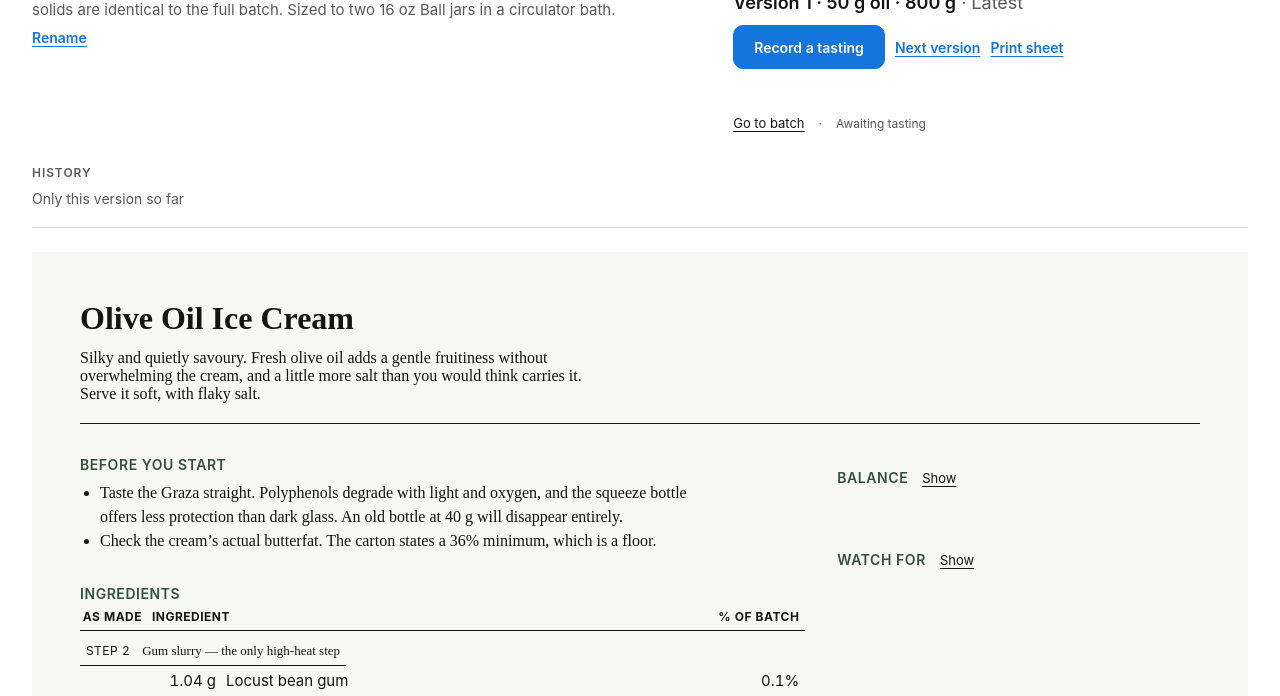
From freezer through the real pen and the real save (sketch 010 D6 to D10; 04-05) › a tap hides the scales and Any problems?; Clear brings them back blank; a scale mark turns the options off with the reason
The image size is (1280, 696).
Click the button with class "notebook-action" at (809, 47), box left=733, top=25, right=885, bottom=69
(page scrolled)
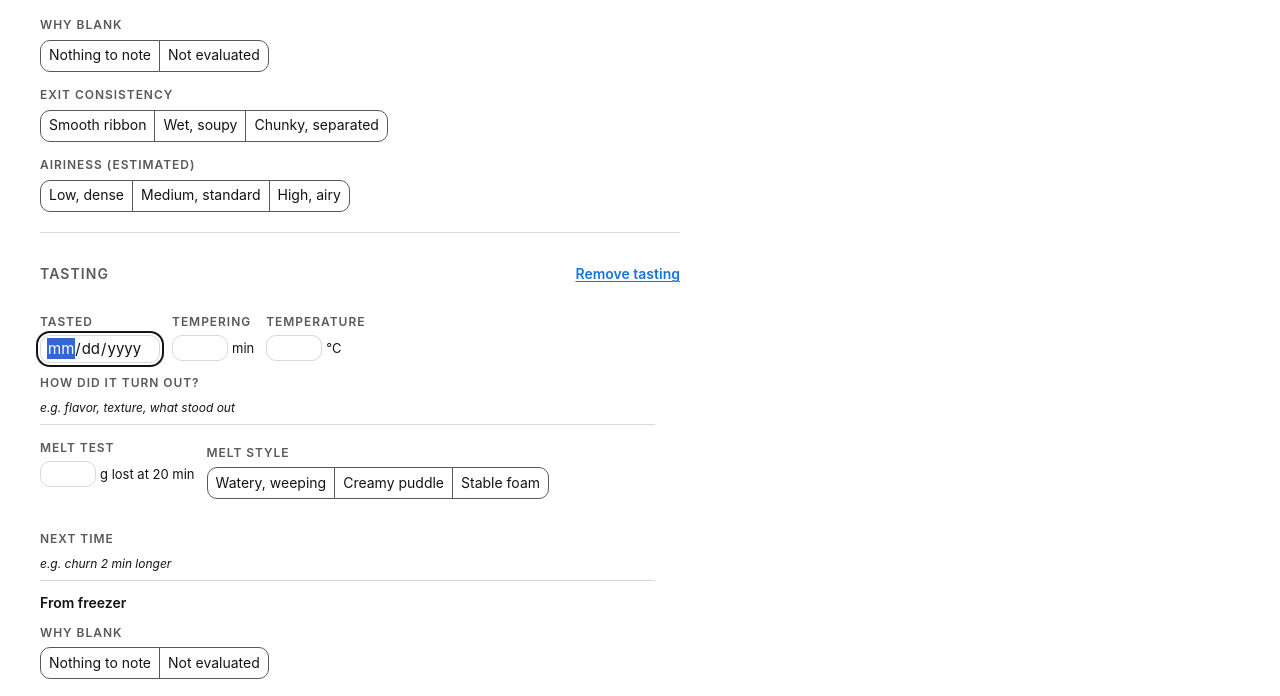
Click the radio button labelled "Nothing to note" below "From freezer" at (100, 663), box left=40, top=647, right=160, bottom=679
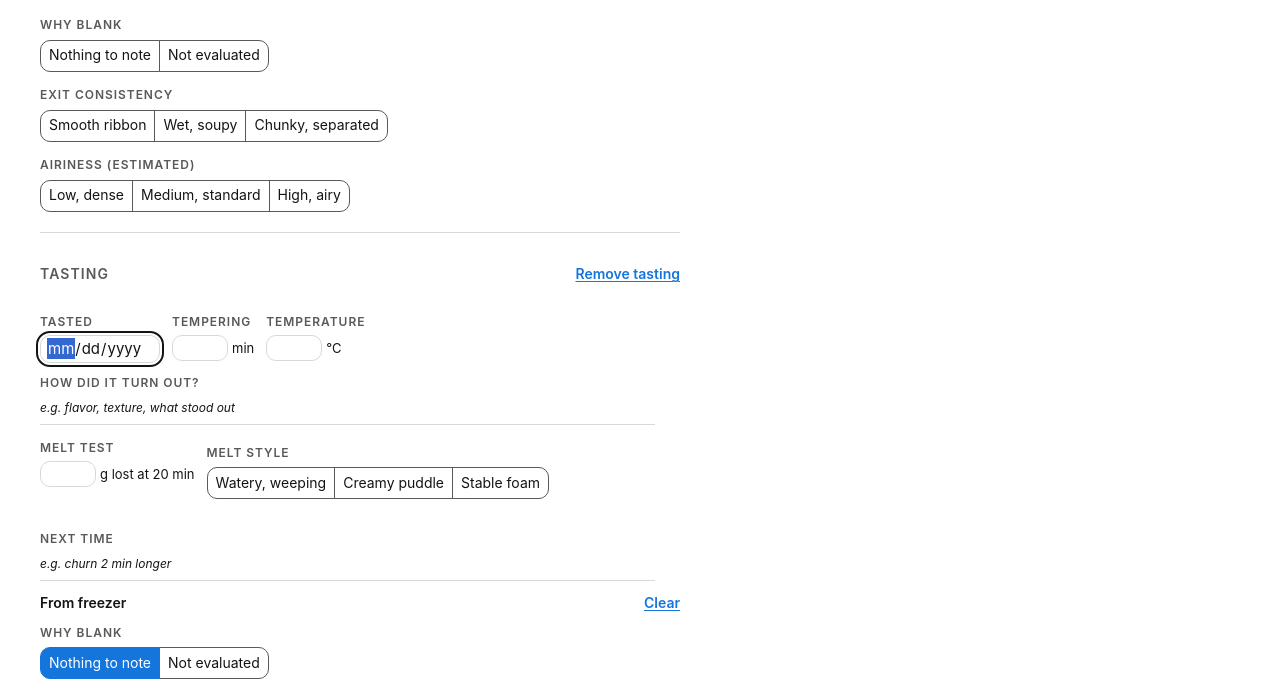
Click the button "Clear" at (662, 603), box left=644, top=594, right=680, bottom=612
(page scrolled)
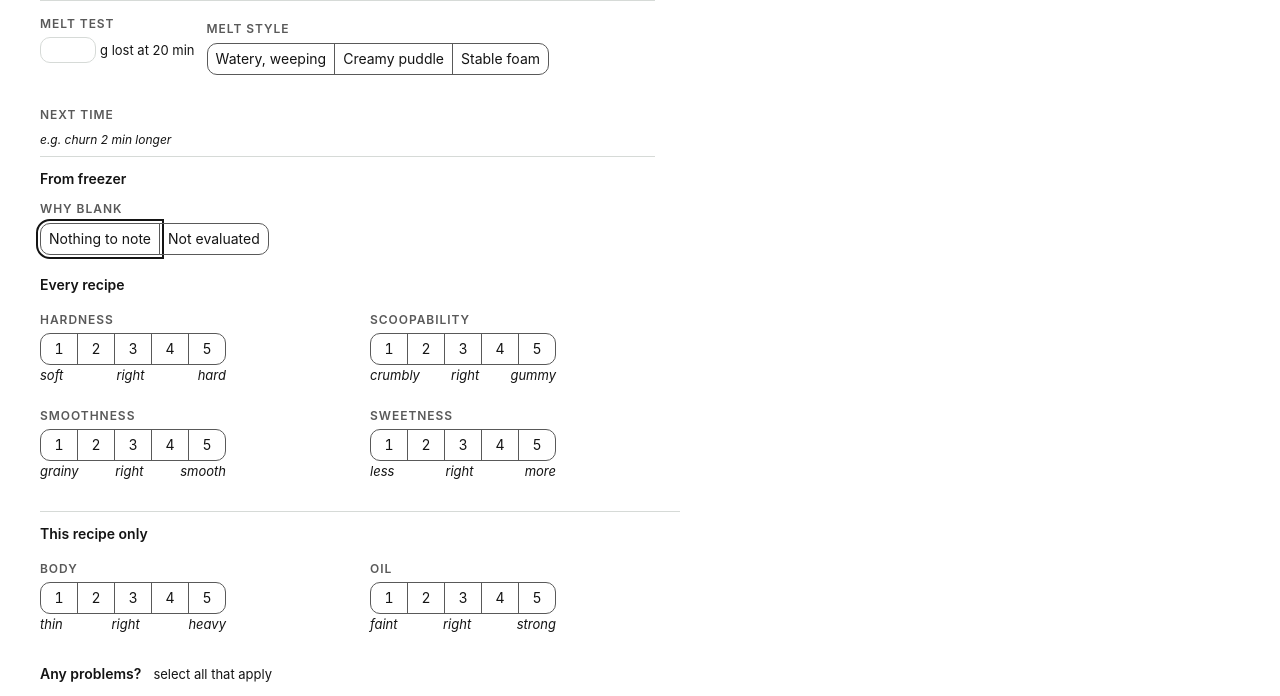
Now the radio button labelled "Nothing to note" is not checked, box left=40, top=223, right=160, bottom=255
Now the element with class "axis-mark" that starts with "Hardness" is shown, box left=40, top=312, right=226, bottom=383
Click the radio button labelled "4" below "Hardness" at (170, 349), box left=151, top=333, right=189, bottom=365
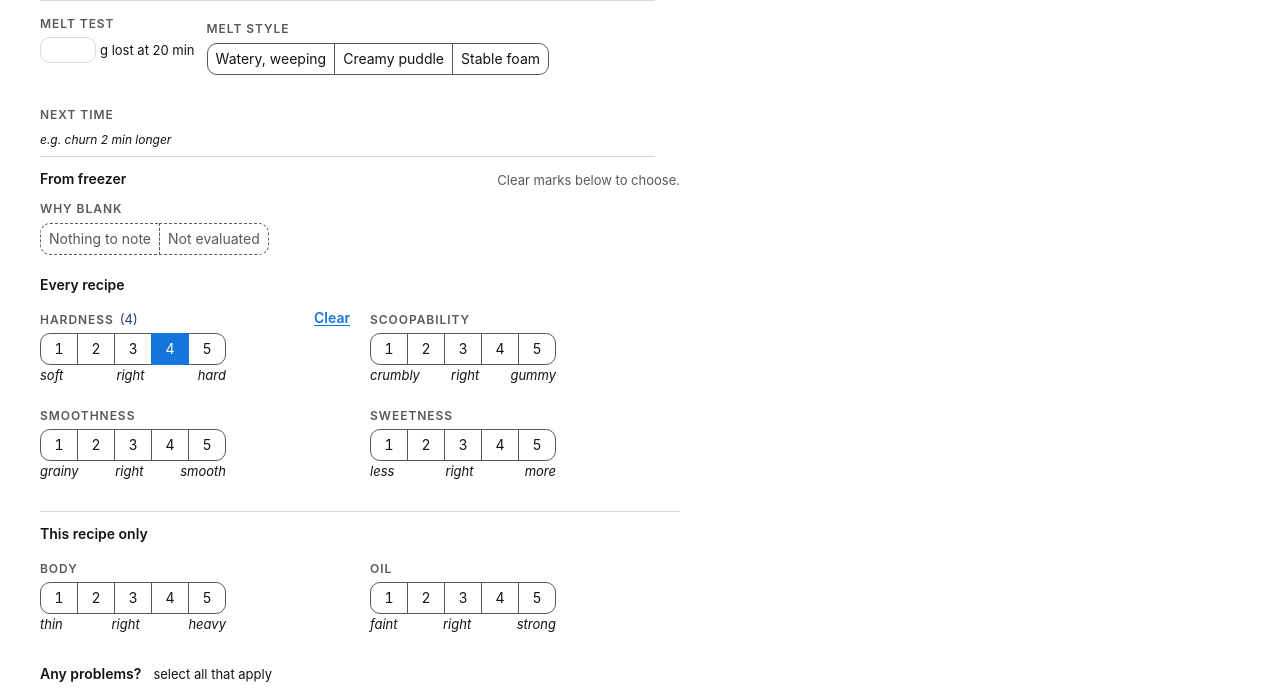
Now the radio button labelled "Nothing to note" is not checked, box left=40, top=223, right=160, bottom=255
Now the radio button labelled "Nothing to note" is disabled, box left=40, top=223, right=160, bottom=255
Now the radio button labelled "Not evaluated" is disabled, box left=159, top=223, right=269, bottom=255
